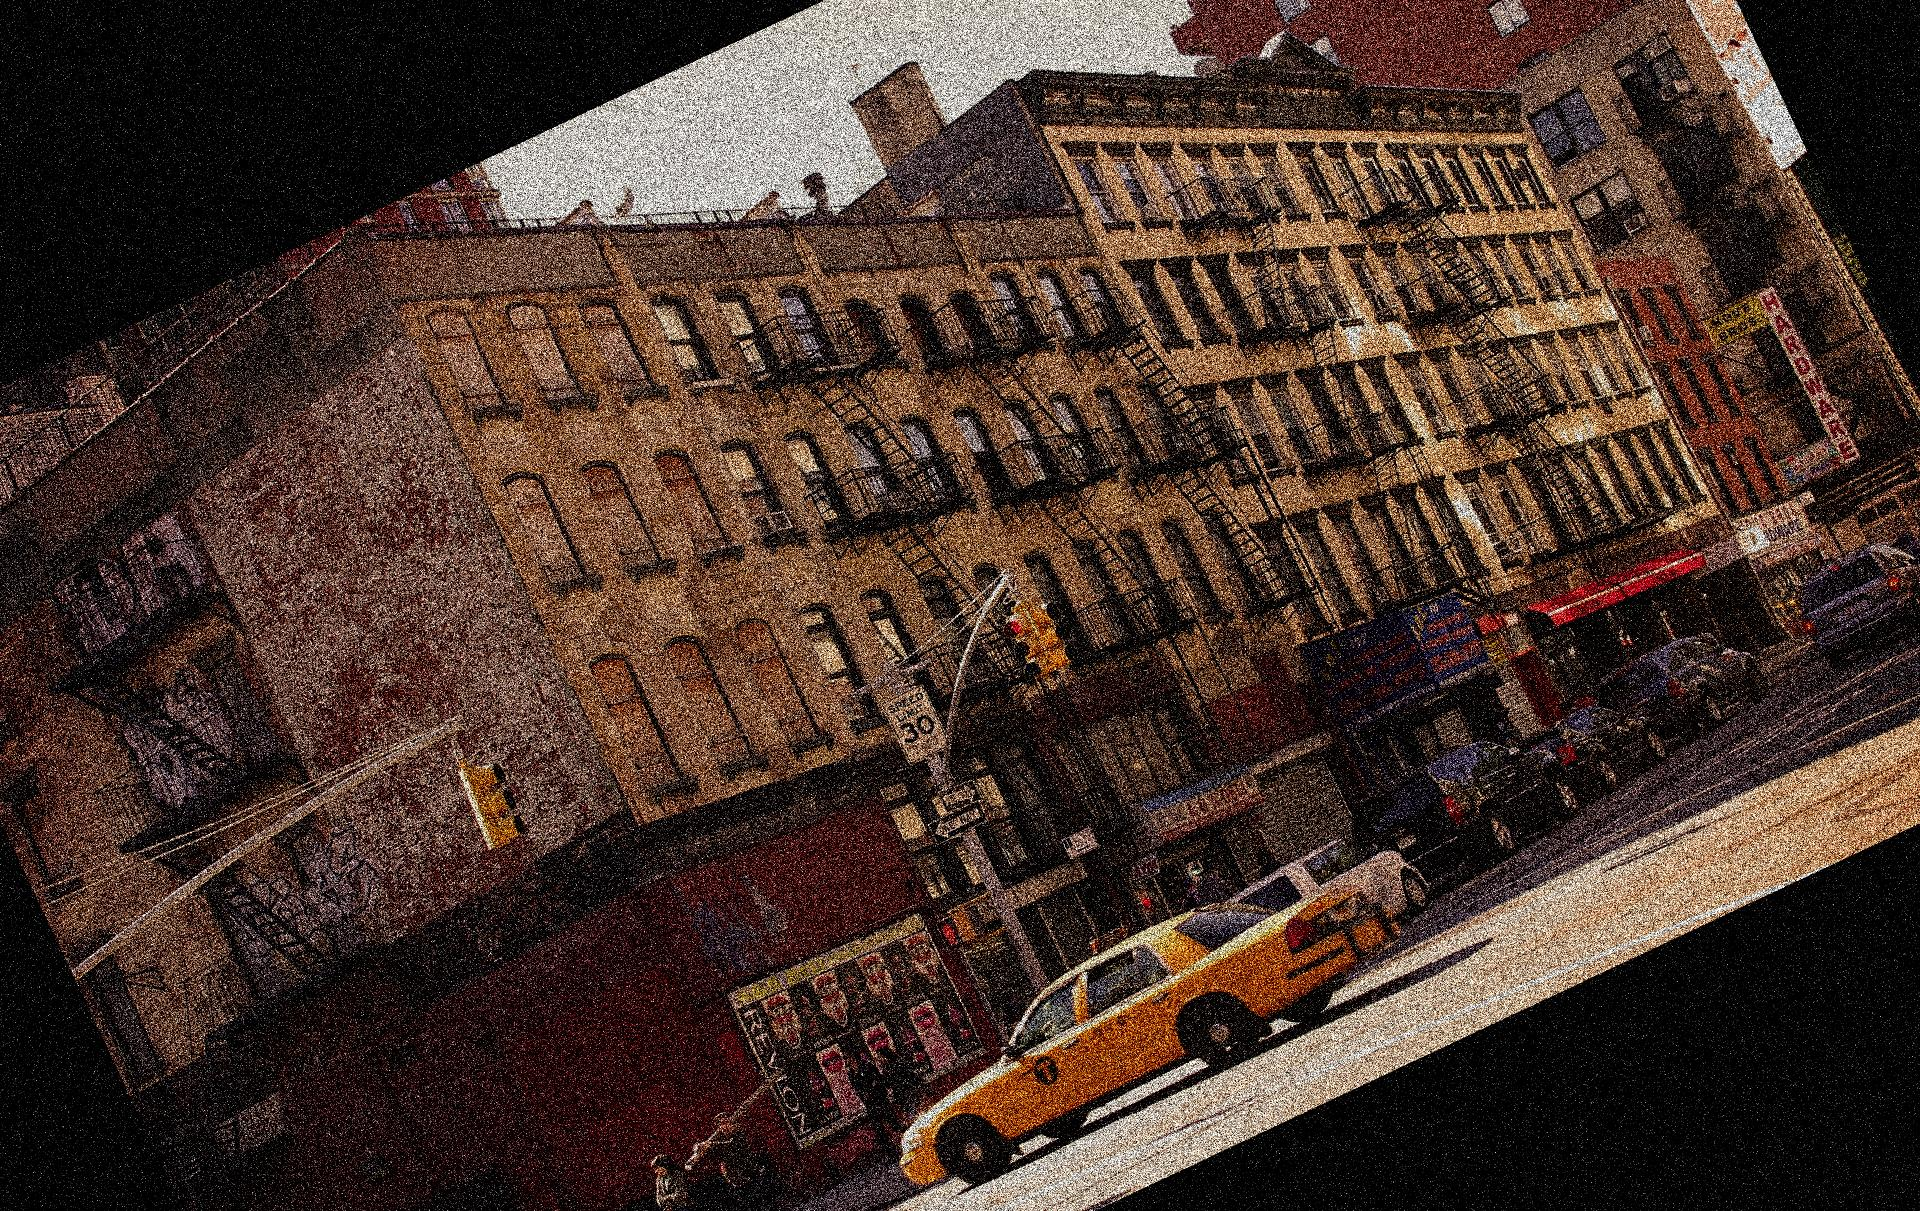taxi: (894, 869, 1341, 1186)
